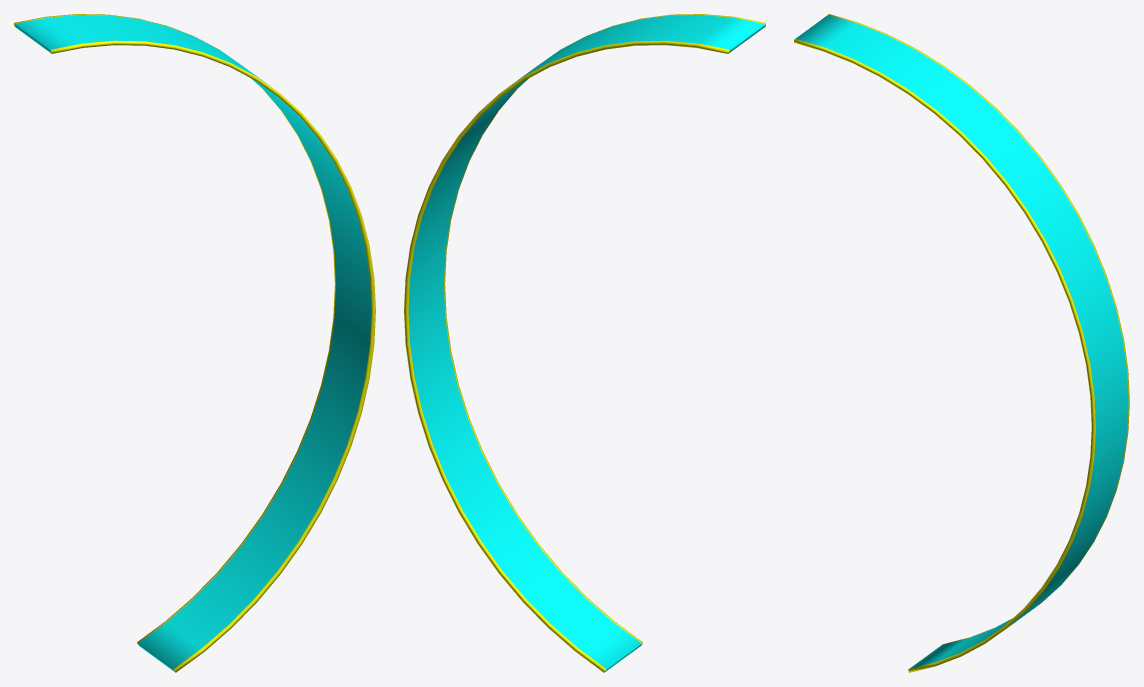
File: TouchNote06.fbx
3 renders of one model, left to right at view 1: azimuth 30°, elevation 25°; view 2: azimuth 150°, elevation 25°; view 3: azimuth 330°, elevation 25°, orthographic. The views are drawn at different scales.
Parts seen in each view (by area): view 1: TouchNote06; view 2: TouchNote06; view 3: TouchNote06.
Part boxes in pixels (bbox=[...]): TouchNote06: bbox=[14, 14, 375, 672]; TouchNote06: bbox=[404, 14, 765, 672]; TouchNote06: bbox=[794, 14, 1129, 672].
Bounding box in the file's own units: 99 × 20 × 190.
